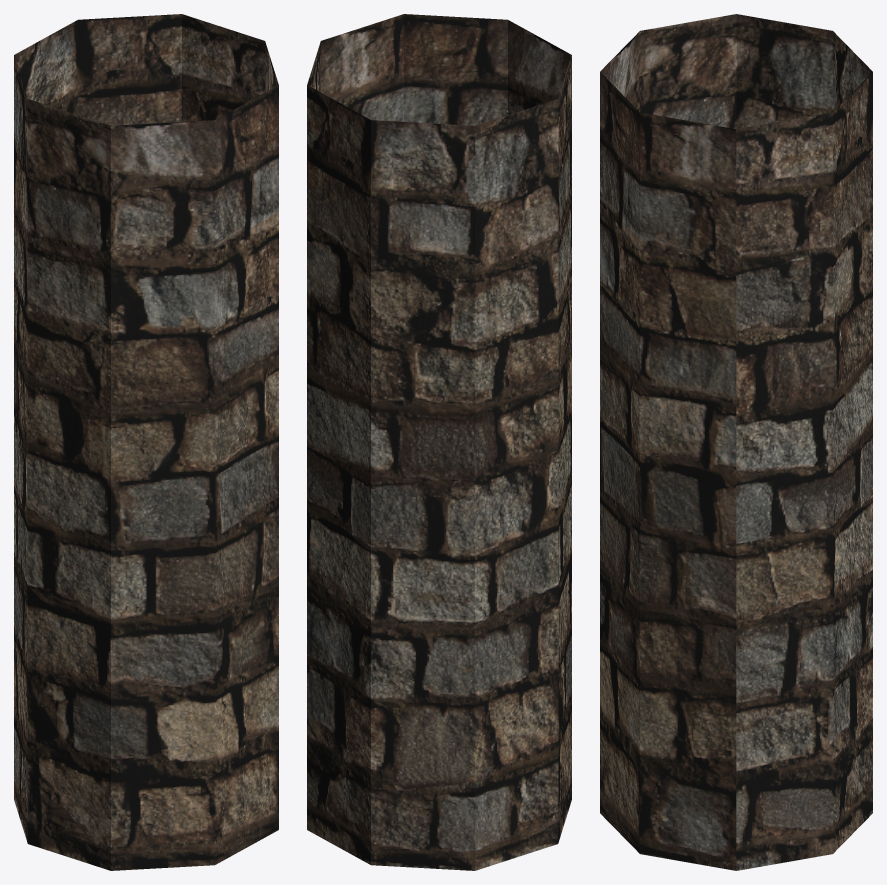
Rendered from ColumnBricks1.fbx.
3 views of the same model, side by side, from view 1: azimuth 30°, elevation 25°; view 2: azimuth 150°, elevation 25°; view 3: azimuth 270°, elevation 25° (orthographic).
Visible parts, largest first — view 1: ColumnBricks1; view 2: ColumnBricks1; view 3: ColumnBricks1.
Part boxes in pixels (left/top/right/bottom): ColumnBricks1: left=14, top=14, right=278, bottom=870; ColumnBricks1: left=307, top=14, right=571, bottom=870; ColumnBricks1: left=600, top=14, right=872, bottom=870.
Bounding box in the file's own units: 100 × 300 × 100.
1 material, 1 textured.
